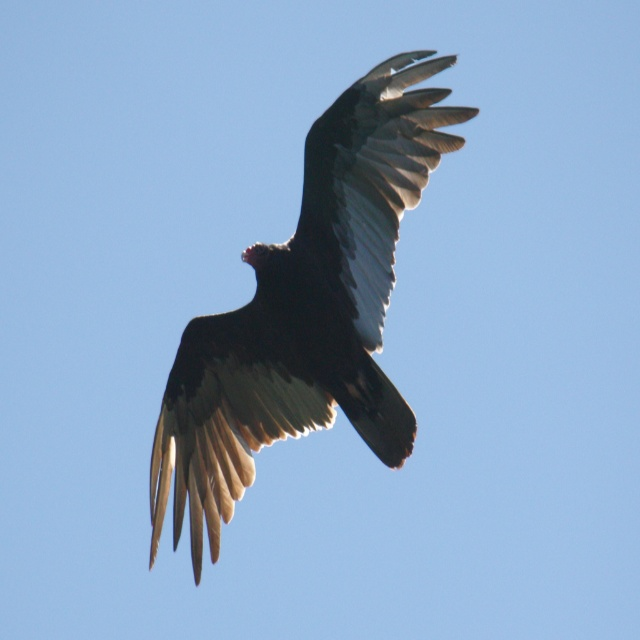Eagle: (149, 49, 480, 587)
